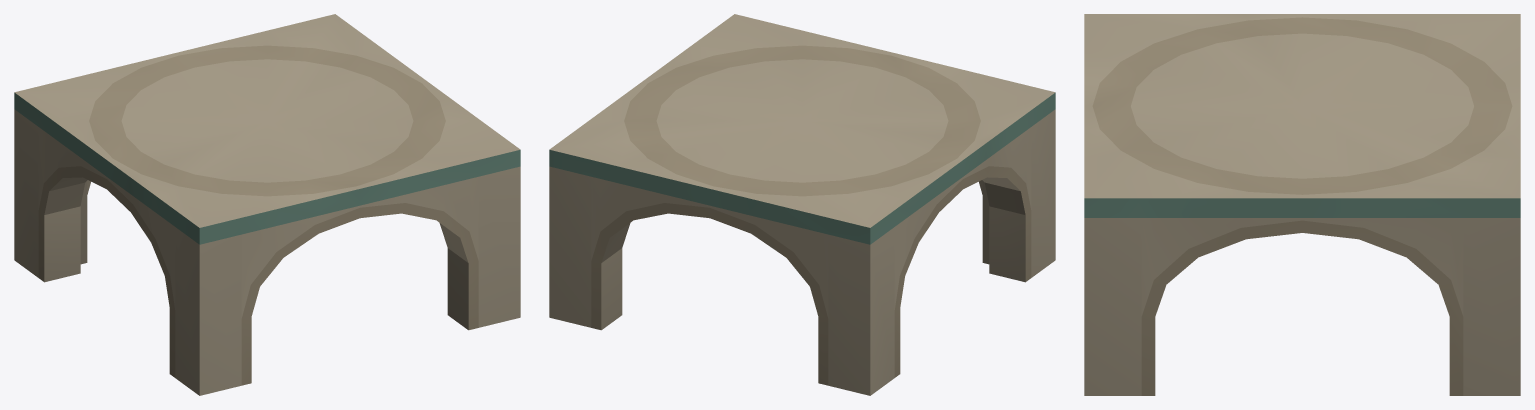
File: dome.arch_4way.copper.glb
3 renders of one model, left to right at view 1: azimuth 30°, elevation 25°; view 2: azimuth 150°, elevation 25°; view 3: azimuth 270°, elevation 25°, orthographic. The views are drawn at different scales.
Visible parts, largest first — view 1: dome_arch_4way_copper; view 2: dome_arch_4way_copper; view 3: dome_arch_4way_copper.
Part boxes in pixels (bbox=[...]): dome_arch_4way_copper: bbox=[14, 14, 520, 395]; dome_arch_4way_copper: bbox=[549, 14, 1055, 395]; dome_arch_4way_copper: bbox=[1084, 14, 1520, 395].
Size of what is drawn, in the model's own units: 8 by 4 by 8.
